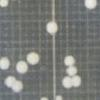white: (46, 22, 60, 38), (26, 50, 40, 65), (16, 60, 29, 76), (70, 74, 83, 90), (0, 55, 12, 72), (3, 74, 16, 89), (11, 80, 24, 94), (60, 76, 73, 90), (84, 0, 99, 11), (64, 65, 78, 76), (63, 54, 75, 66), (0, 0, 10, 9), (52, 92, 63, 100), (39, 96, 50, 100)
